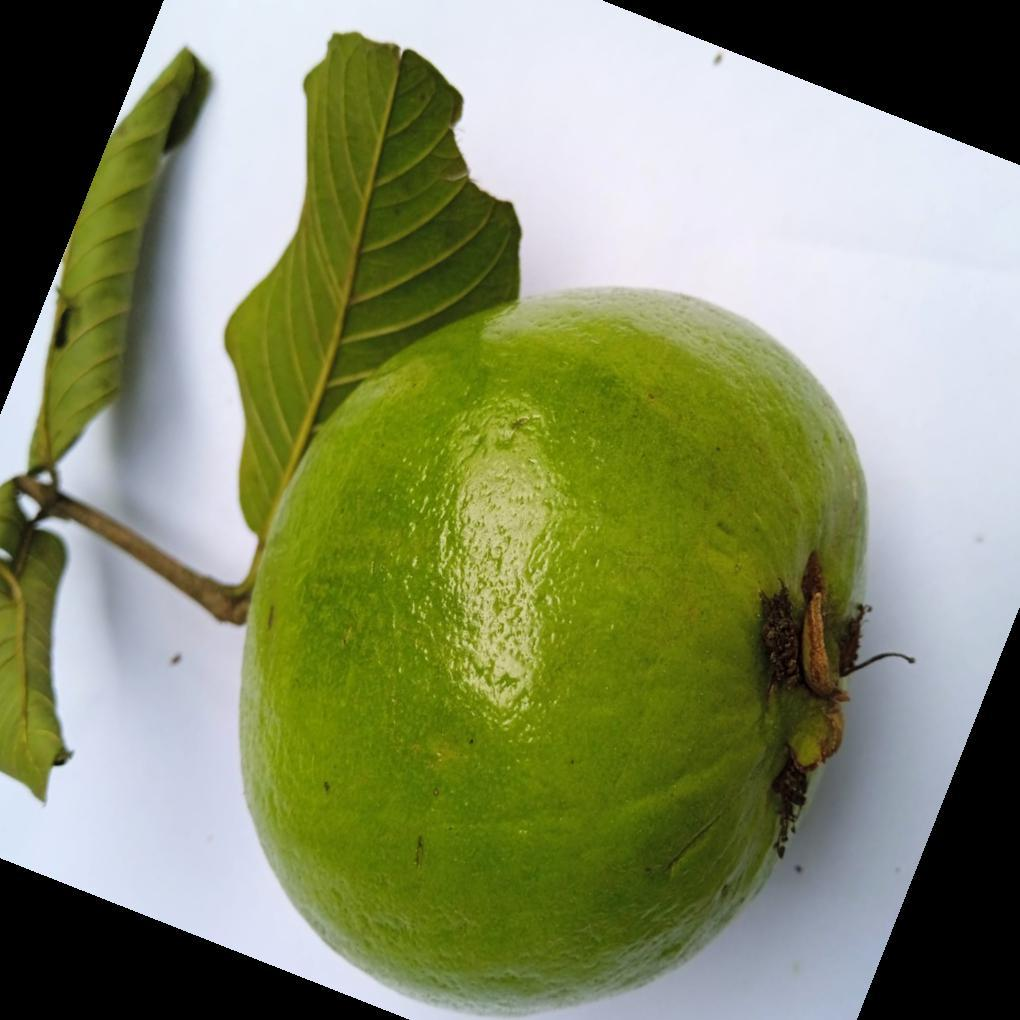FreshGuava: (236, 285, 870, 1020)
